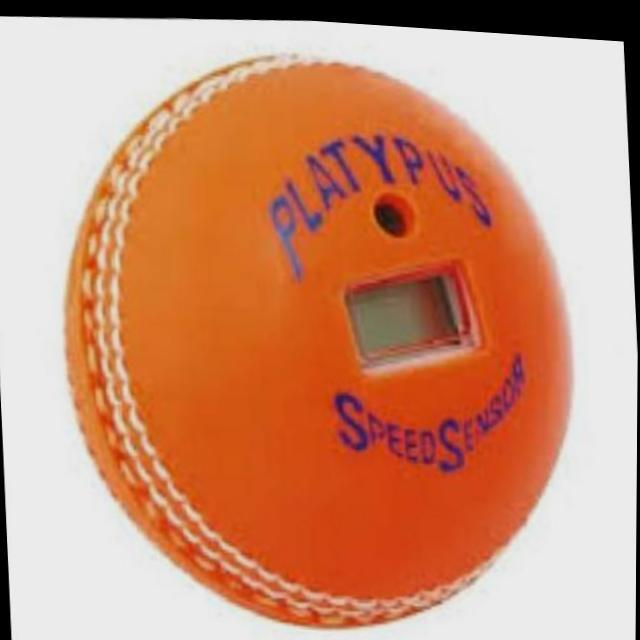-: (57, 9, 624, 640)
